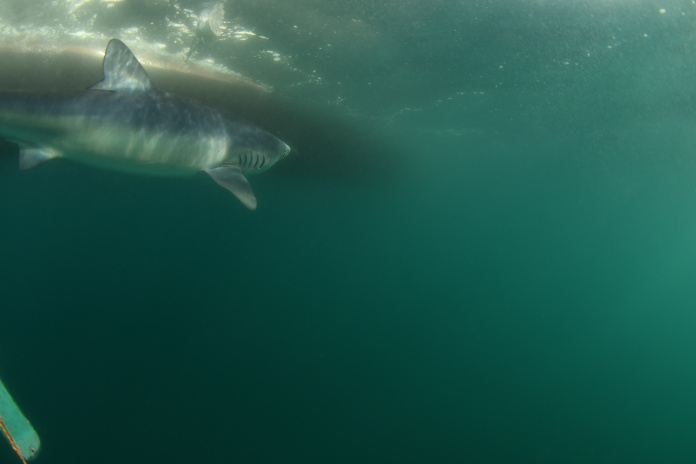Azul: (1, 33, 304, 224)
